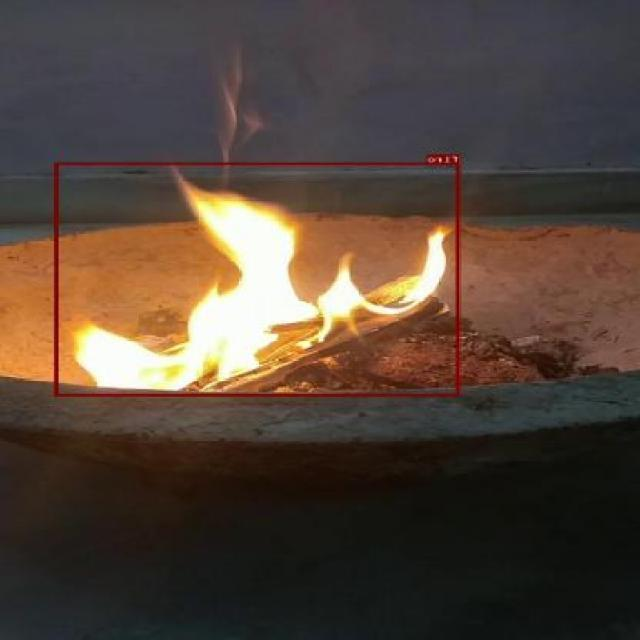Fire: (56, 162, 461, 396)
